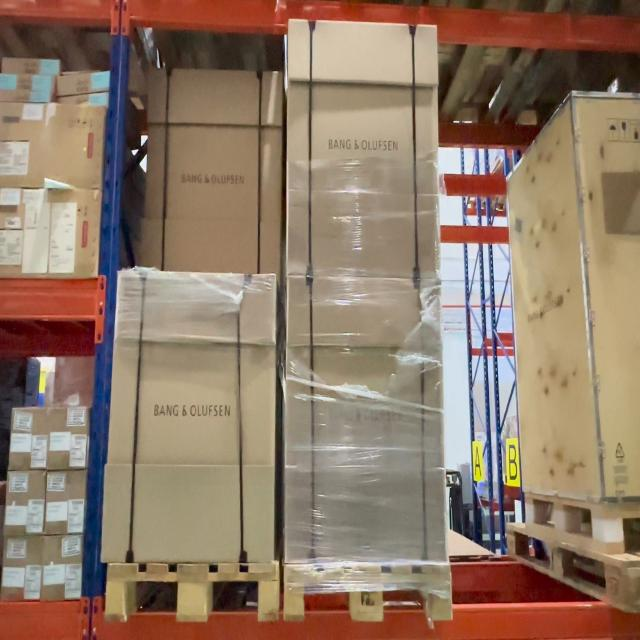box: (119, 279, 274, 551), (289, 284, 443, 556), (292, 20, 434, 283), (152, 70, 280, 271)
